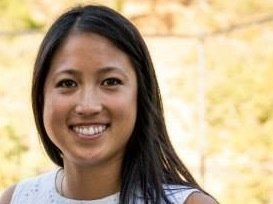bare: (42, 95, 141, 160)
